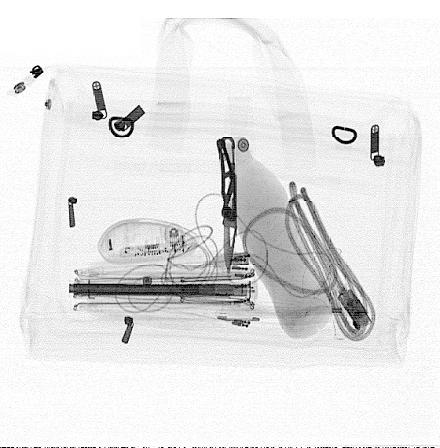Knife: (215, 136, 237, 276)
